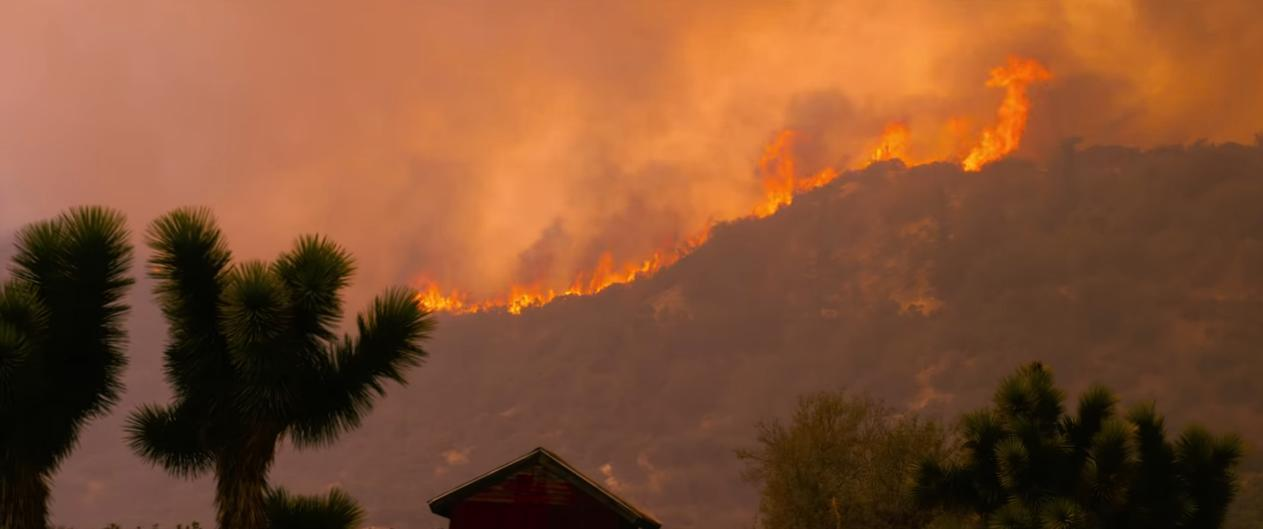fire: (378, 230, 712, 321), (745, 123, 945, 222), (952, 48, 1057, 179)
